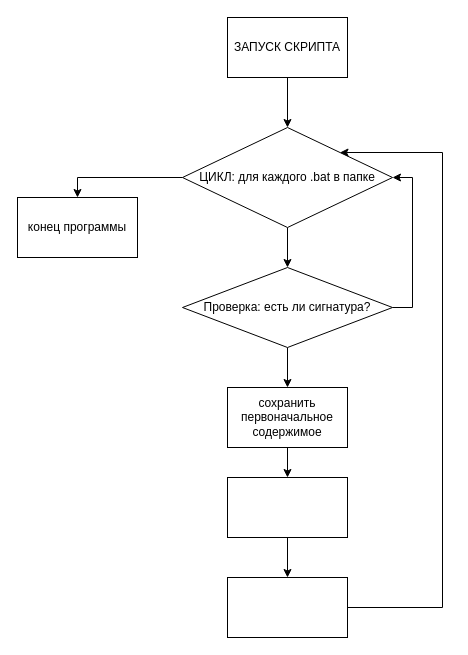
The diagram is 468 pixels wide and 655 high, and some of its shapes have lost their labels. Here are the shapes that lost their labels. From the top down, the centre of each, then its label:
At (x=287, y=507): "Заразить файл".
At (x=287, y=607): "вставить первоначальное содержимое".
